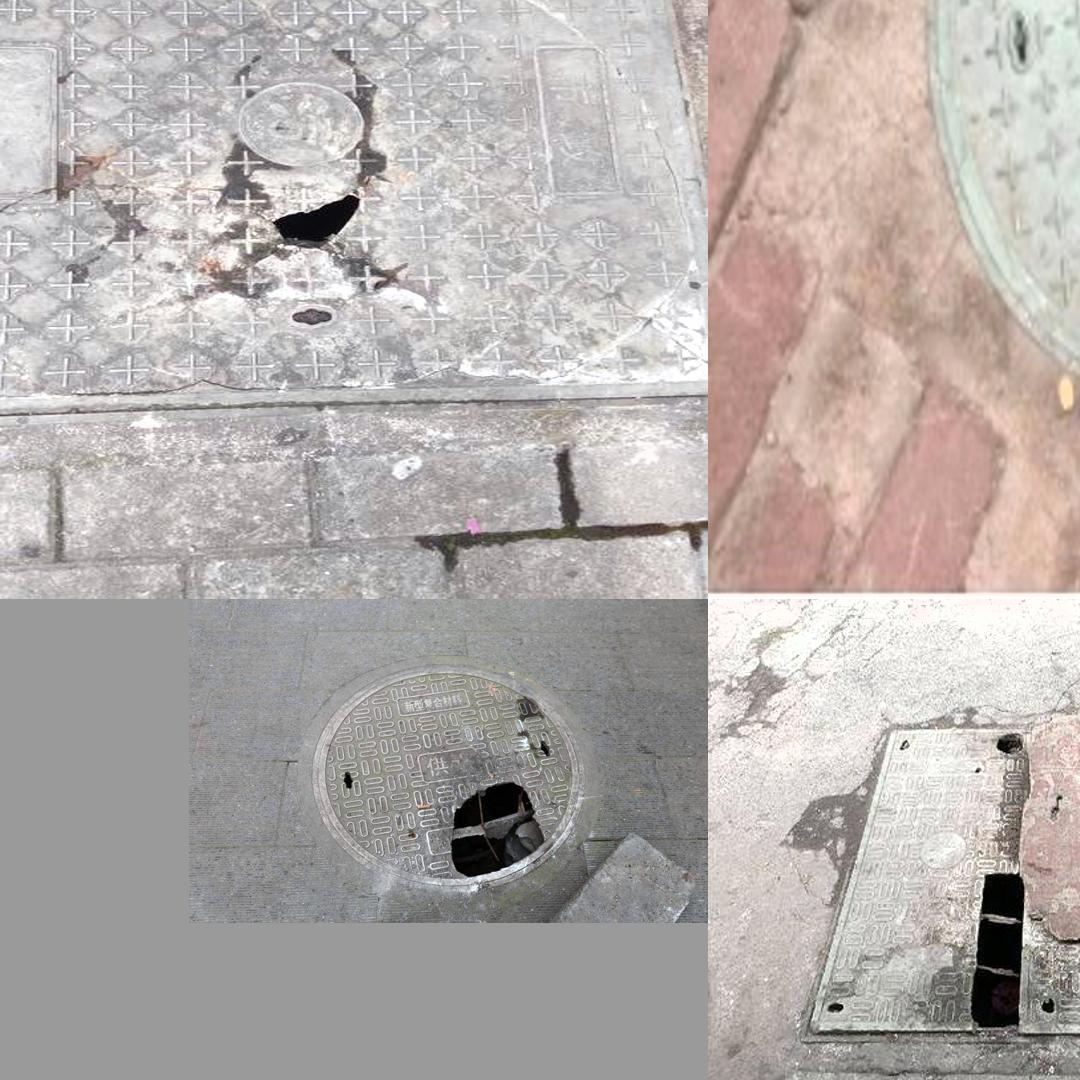broke: (0, 0, 706, 463), (799, 702, 1080, 1067), (310, 664, 585, 885), (936, 0, 1080, 380)
